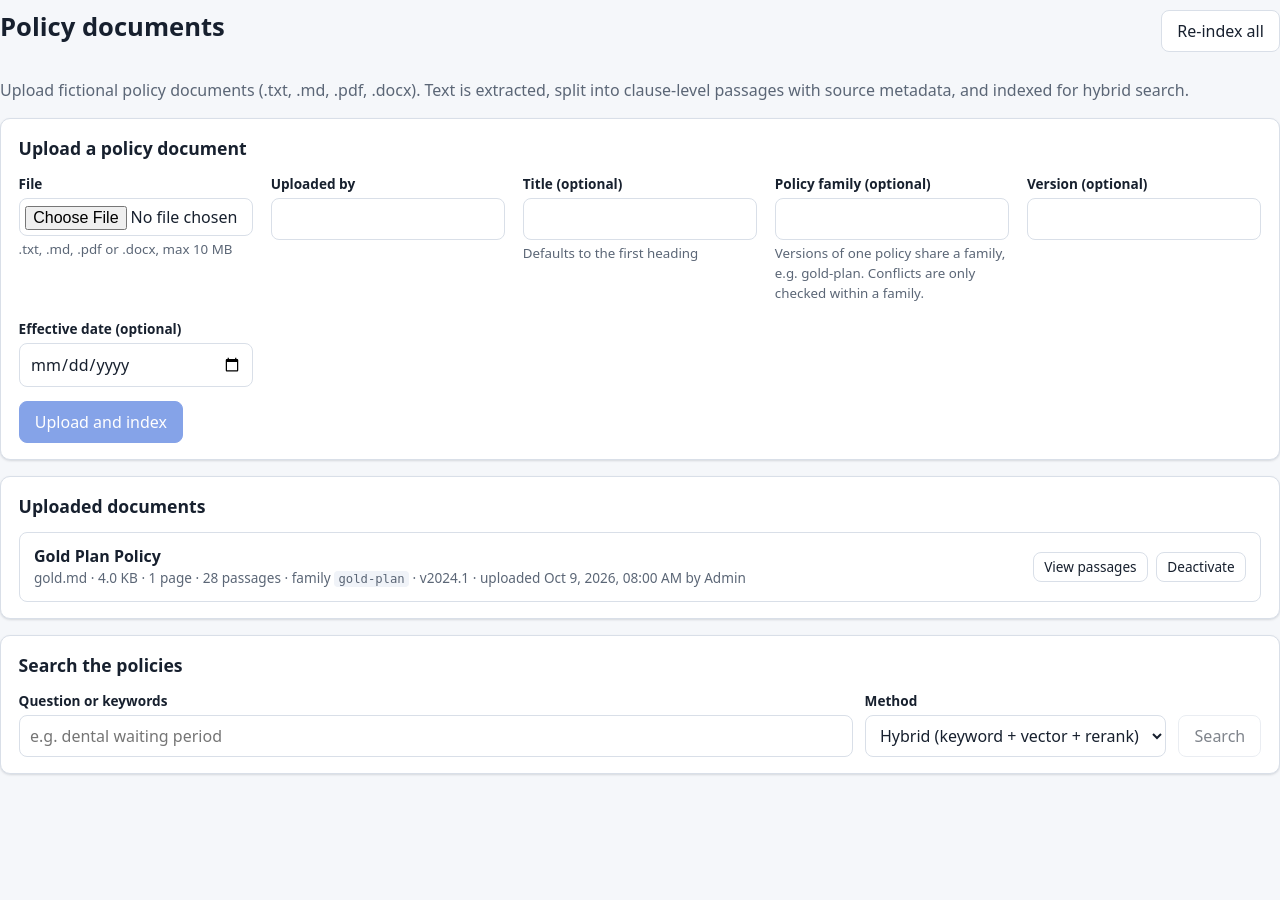
Test: PoliciesPage › searches with the chosen method and shows per-stage scores
This screenshot has width=1280, height=900.
Expected: the text "Gold Plan Policy" is shown, x1=34 y1=545 x2=161 y2=567
Type "dental waiting period" into the field labelled "Question or keywords" at (436, 736), box x1=19 y1=715 x2=853 y2=757
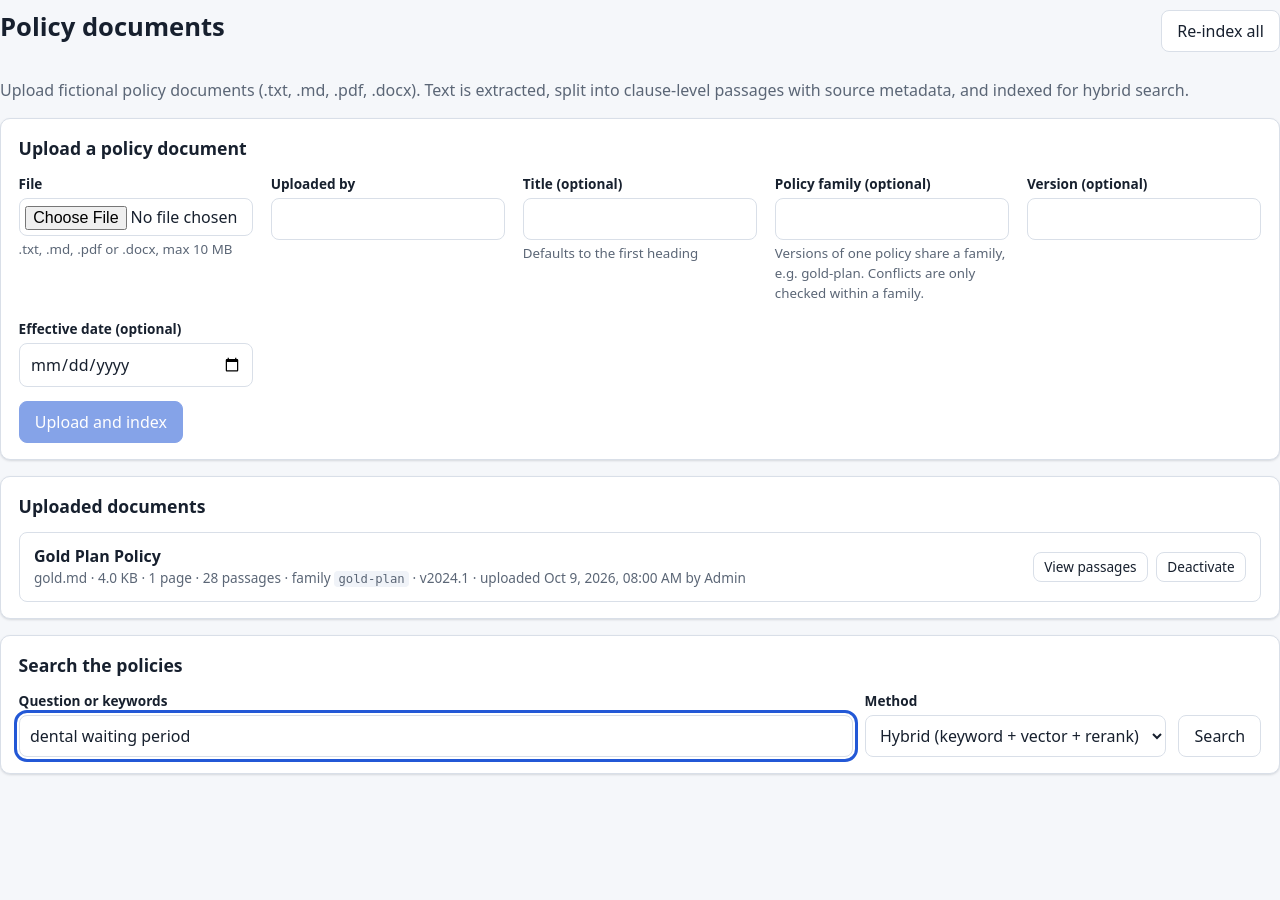
Select "Keyword only" in the dropdown labelled "Method" at (1016, 736), box x1=865 y1=715 x2=1166 y2=757
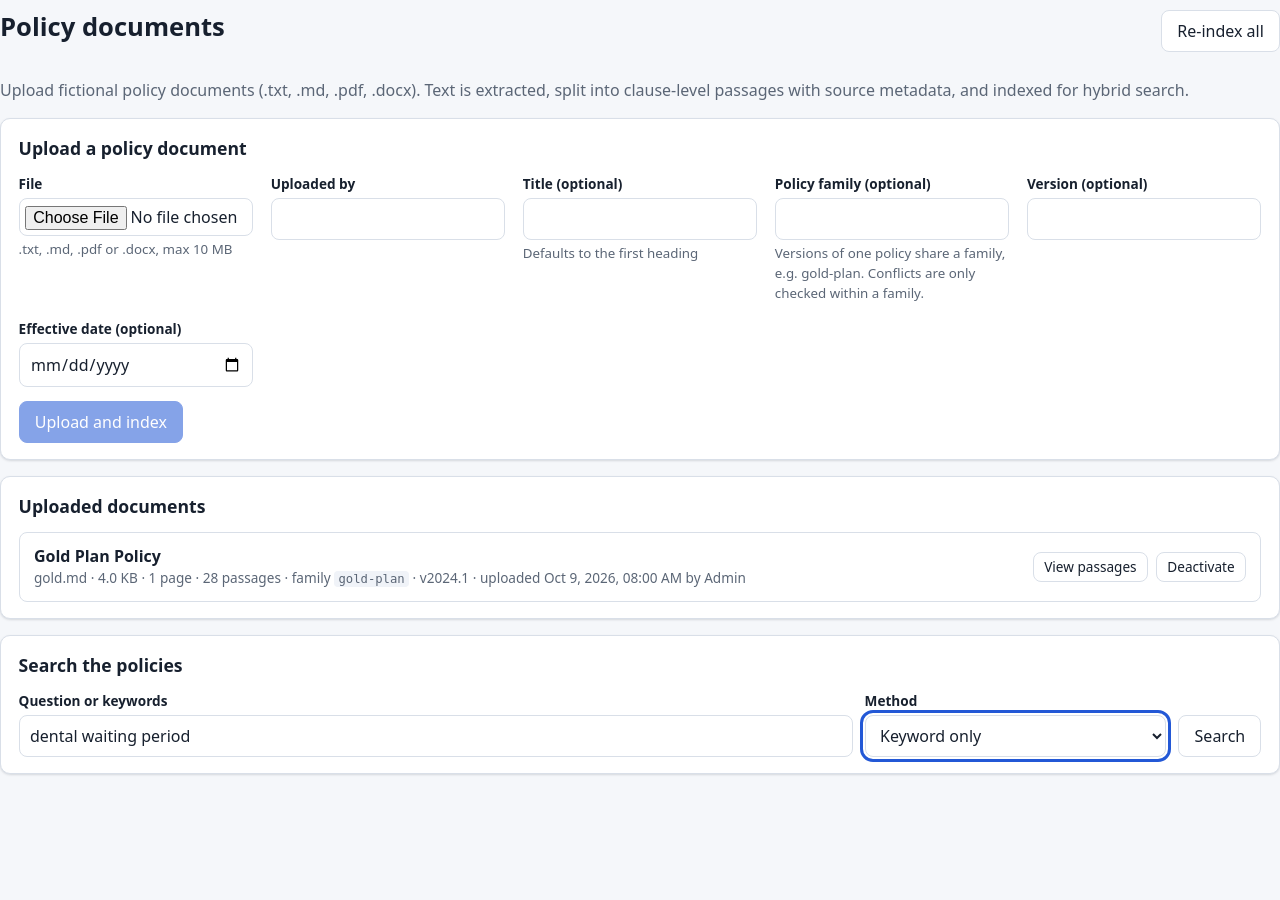
Click the button "Search" at (1220, 736), box x1=1178 y1=715 x2=1261 y2=757
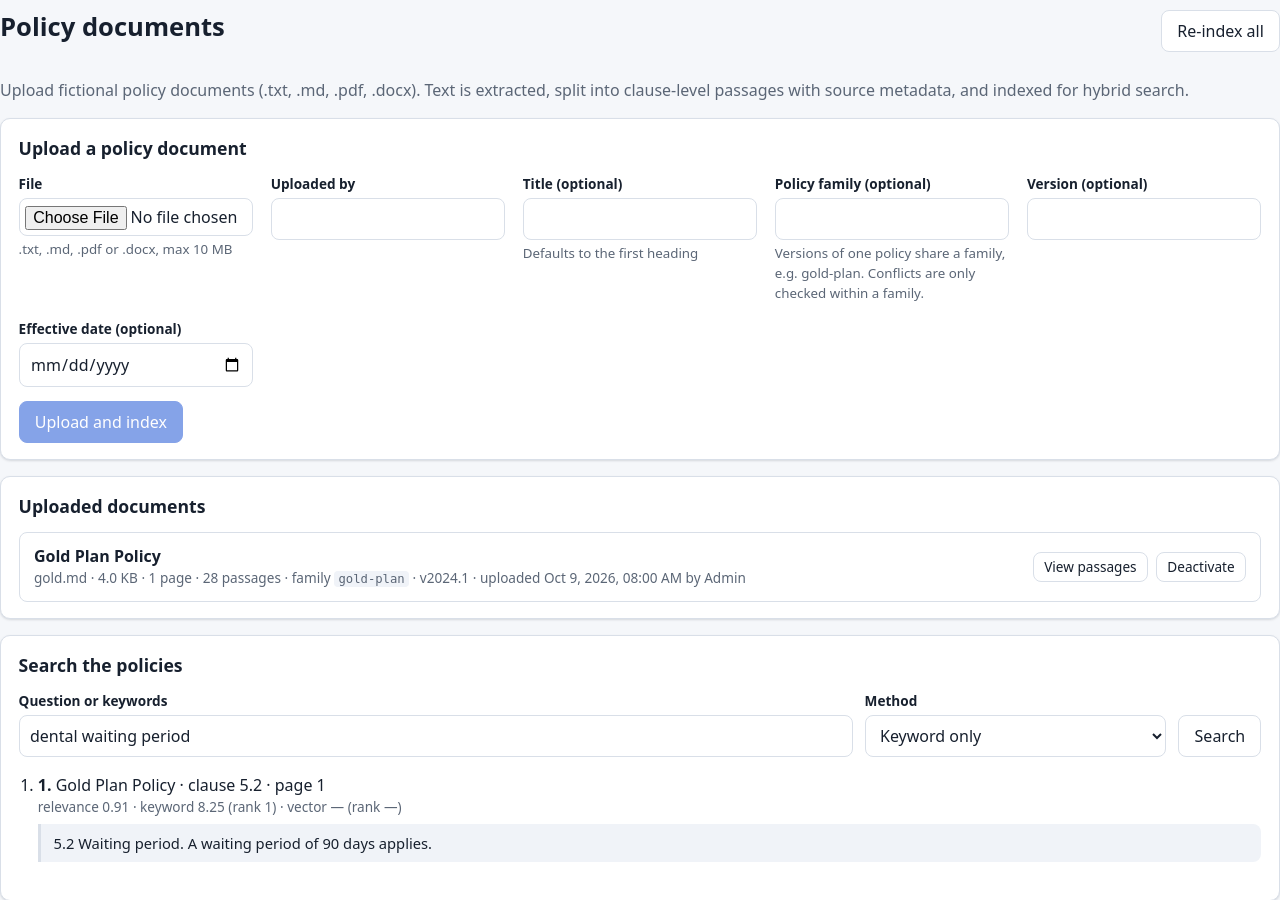
Expected: the text "1. Gold Plan Policy · clause 5.2 · page 1" is shown, x1=38 y1=774 x2=326 y2=796
Expected: the text "relevance 0.91 · keyword 8.25 (rank 1) · vector — (rank —)" is shown, x1=38 y1=797 x2=402 y2=816
